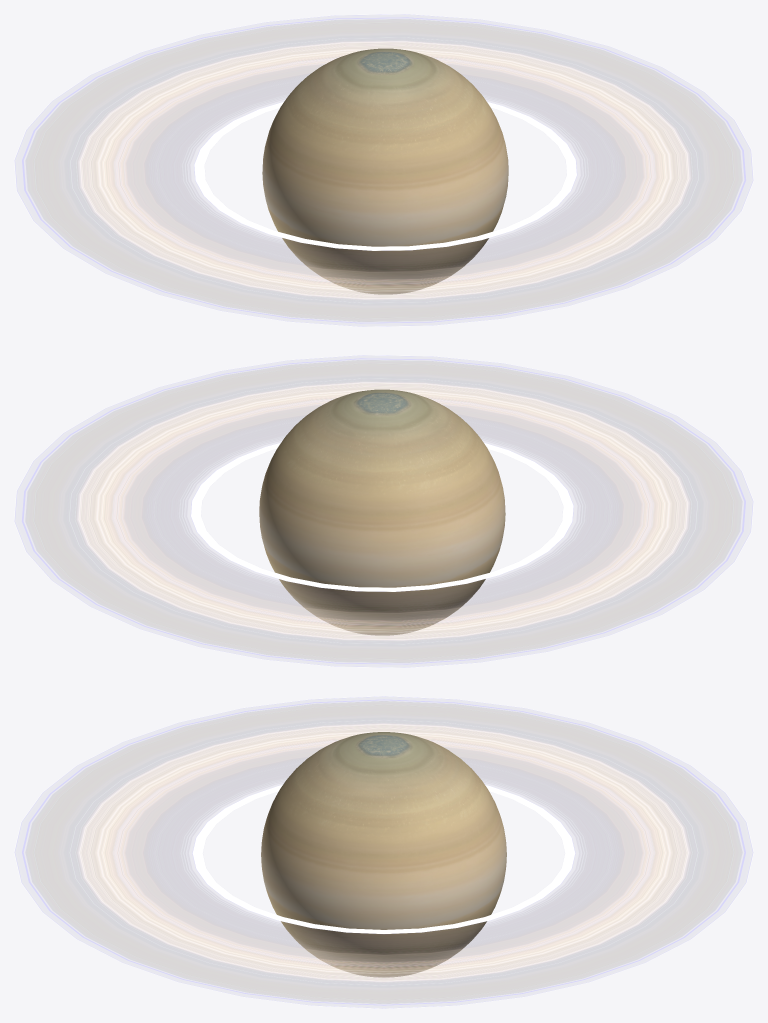
The model's file is saturn.glb.
The picture shows the model from 3 angles, top to bottom: view 1: azimuth 30°, elevation 25°; view 2: azimuth 150°, elevation 25°; view 3: azimuth 270°, elevation 25°; orthographic projection.
Parts seen in each view (by area): view 1: saturn ring, saturn; view 2: saturn ring, saturn; view 3: saturn ring, saturn.
Boxes of the visible parts, box(x1,y1,x2,y2) form: saturn ring: box(14, 14, 753, 326); saturn: box(262, 48, 508, 294); saturn ring: box(14, 355, 753, 667); saturn: box(259, 389, 505, 635); saturn ring: box(14, 696, 753, 1008); saturn: box(261, 732, 506, 977).
Size of the model in its own units: 80.59 by 26.78 by 80.59.
2 materials, 2 textured.
